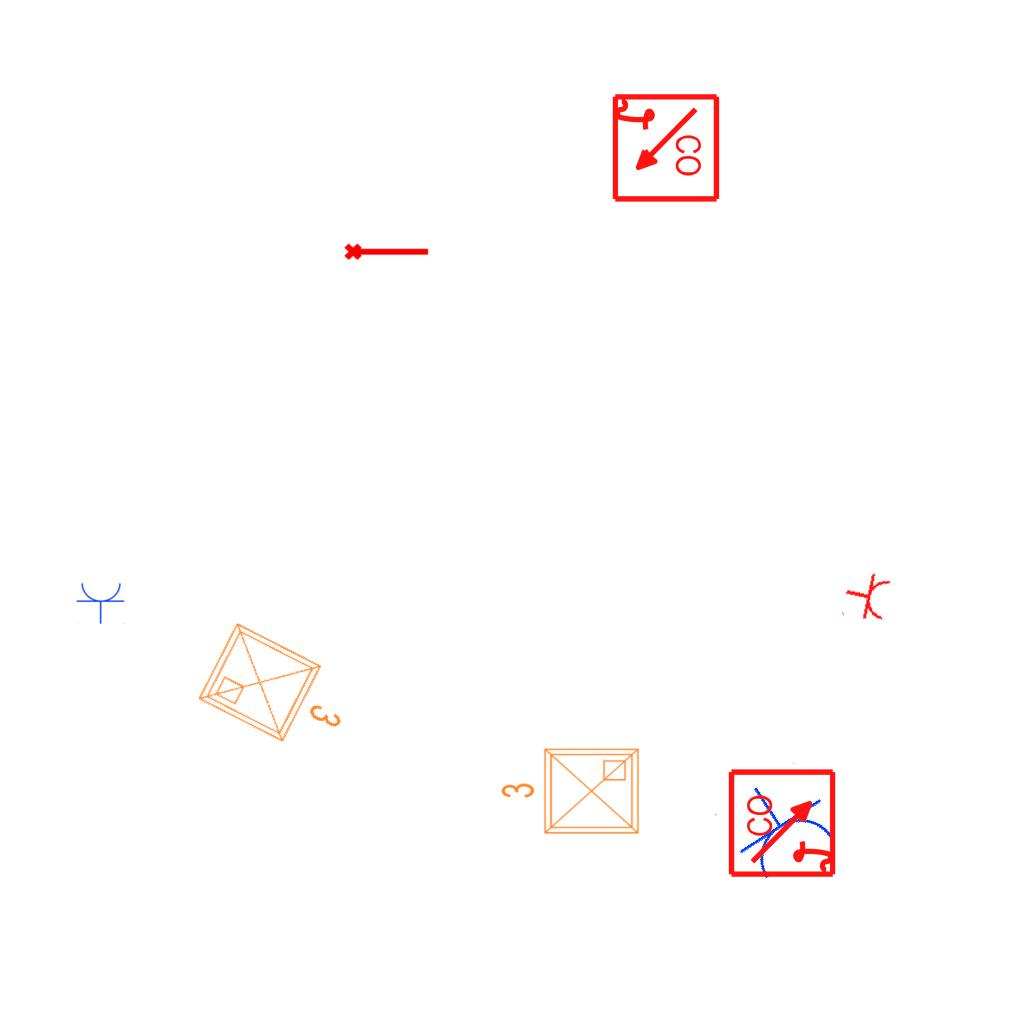ASR_Ansaugoeffnung: (343, 239, 431, 262)
Einbaudownlights_LED_Konferenzraeume: (188, 609, 370, 771), (496, 741, 646, 845)
ROA_Rauchmelder_optisch_mit_Signalgeber_(Sockelsirene): (608, 92, 721, 205), (727, 766, 840, 879)
Schukosteckdose_einfach: (712, 760, 844, 889), (840, 568, 893, 626), (76, 581, 126, 624)
